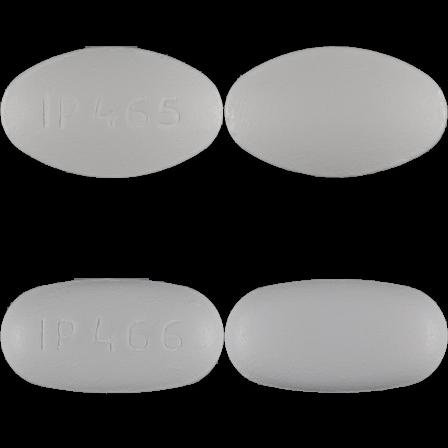68788-9114: (0, 0, 224, 224)
